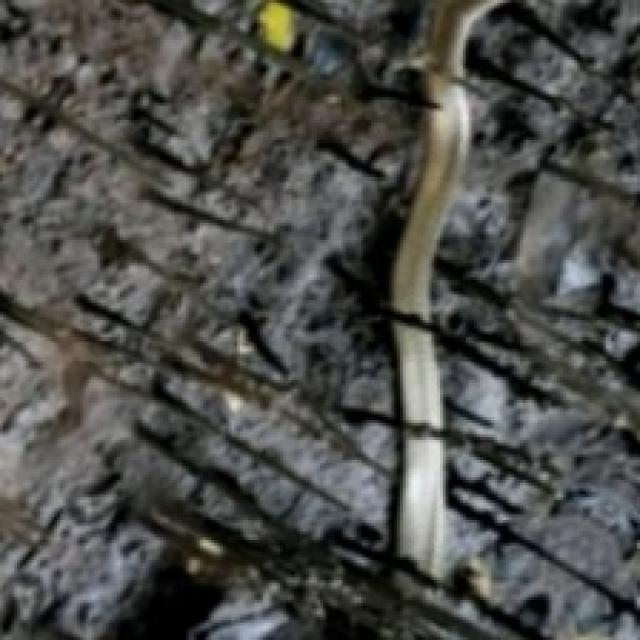king cobra: (390, 0, 501, 578)
